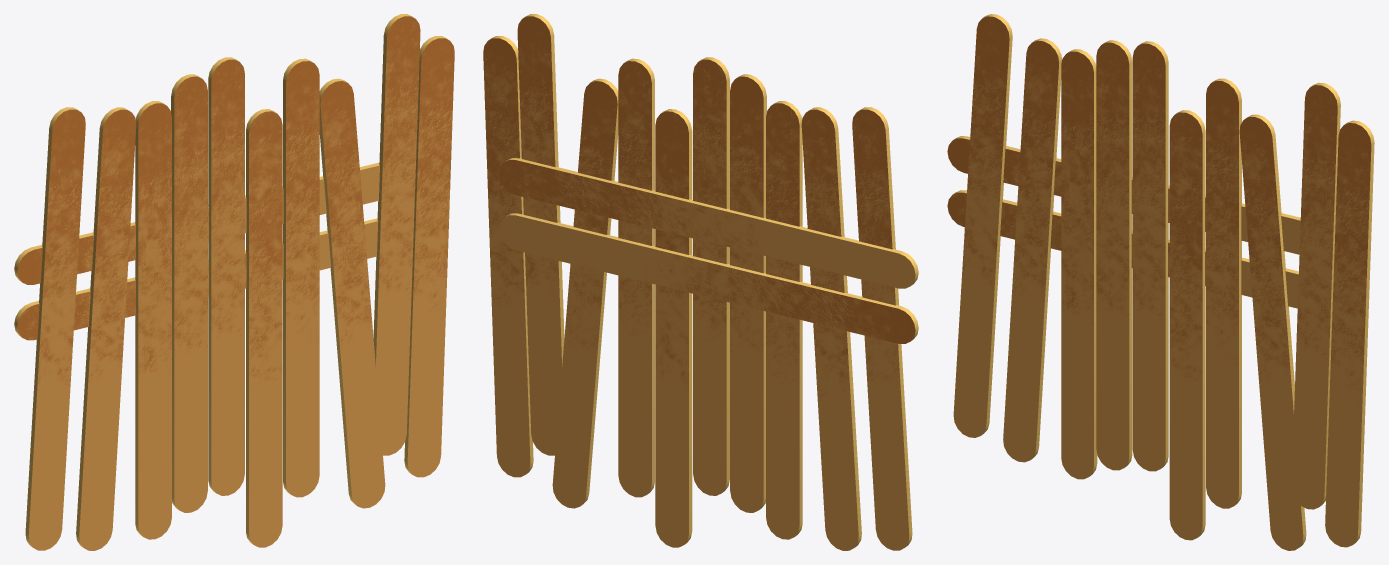
The model's file is 아이스크림 막대 가드레일.fbx.
The picture shows the model from 3 angles, left to right: view 1: azimuth 30°, elevation 25°; view 2: azimuth 150°, elevation 25°; view 3: azimuth 330°, elevation 25°; orthographic projection.
Parts seen in each view (by area): view 1: Circle.011; view 2: Circle.011; view 3: Circle.011.
Part boxes in pixels (x1=…): Circle.011: x1=14, y1=14, x2=454, y2=550; Circle.011: x1=483, y1=14, x2=918, y2=550; Circle.011: x1=947, y1=14, x2=1374, y2=550.
Size of the model in its own units: 8975 by 9808 by 205.
Materials: 1 (1 with a texture image).
